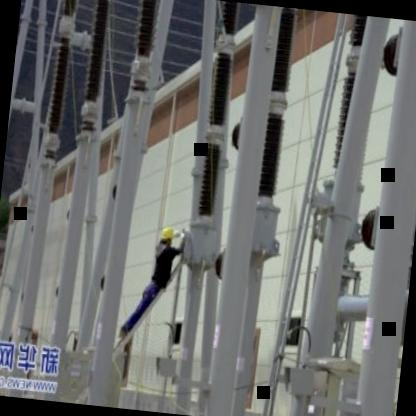helmet: (156, 222, 177, 254)
